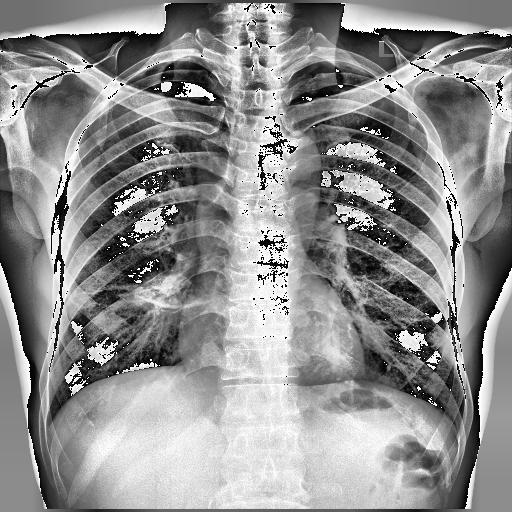0- Aortic enlargement: (192, 132, 319, 260), (262, 130, 324, 198)
11- Pleural thickening: (130, 68, 155, 80)
13- Pulmonary fibrosis: (72, 276, 189, 310), (136, 295, 219, 310), (136, 294, 191, 310)
6- Infiltration: (132, 274, 192, 336)
7- Lung Opacity: (72, 276, 189, 310), (132, 274, 192, 336)
